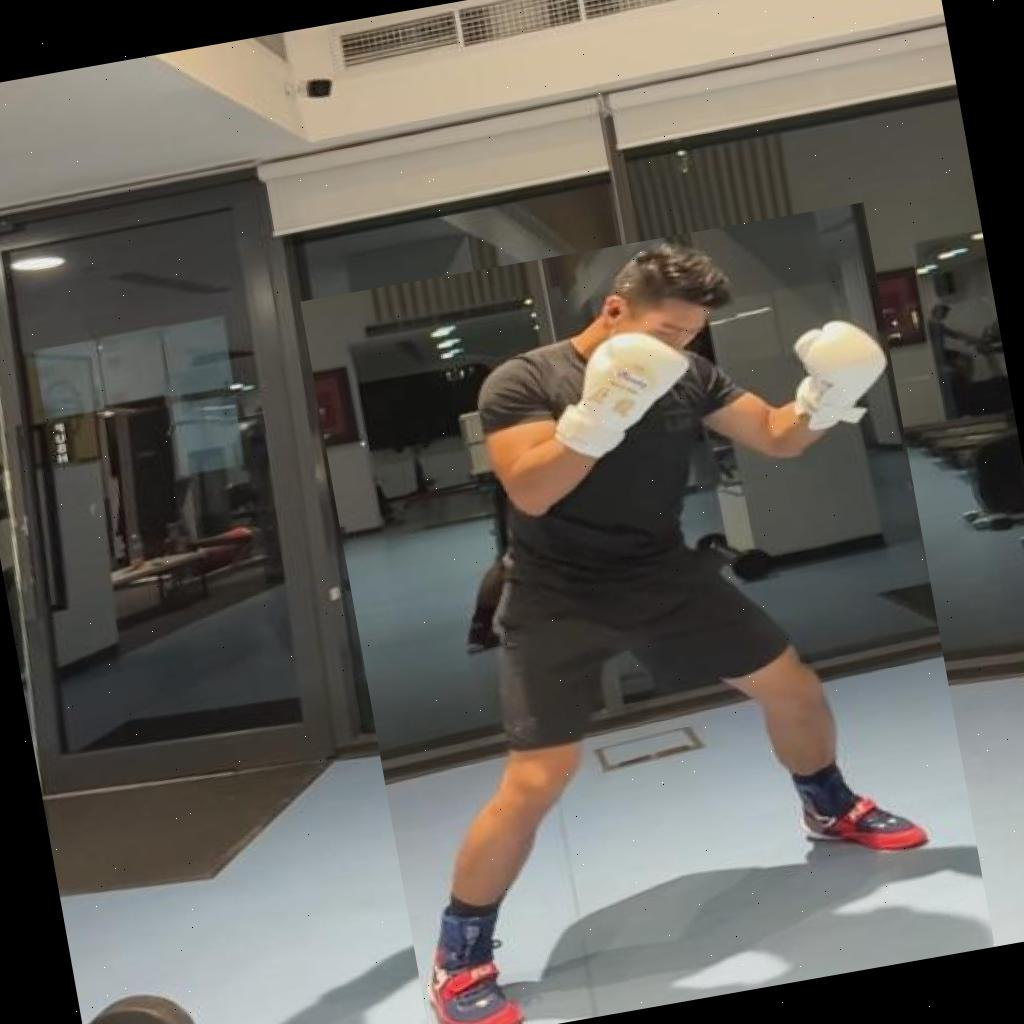uppercut: (300, 202, 995, 1024)
